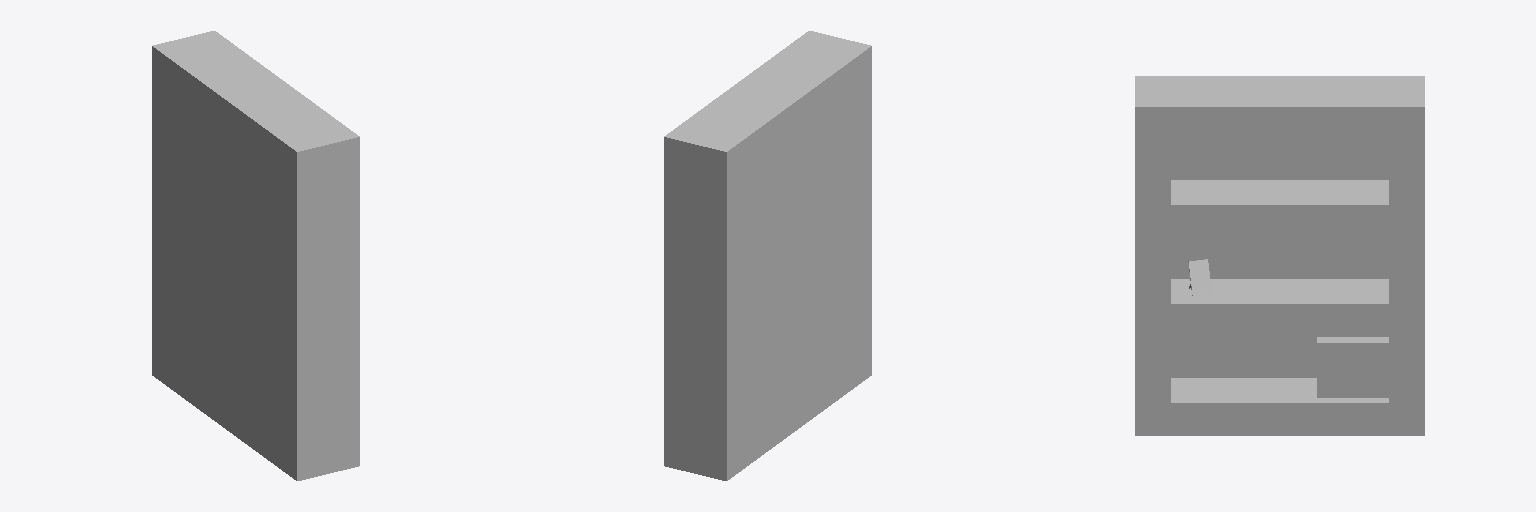
The model's file is shelf.obj.
The picture shows the model from 3 angles: view 1: azimuth 30°, elevation 25°; view 2: azimuth 150°, elevation 25°; view 3: azimuth 270°, elevation 25°; orthographic projection.
Parts seen in each view (by area): view 1: pCube21; view 2: pCube21; view 3: pCube21, pCube22, pCube25.
Part boxes in pixels (x1,y1,x2,y2): pCube21: (152, 31, 359, 480); pCube21: (664, 31, 871, 480); pCube21: (1135, 76, 1424, 435); pCube22: (1317, 337, 1388, 397); pCube25: (1188, 259, 1211, 295).
Bounding box in the file's own units: 1 × 5 × 4.